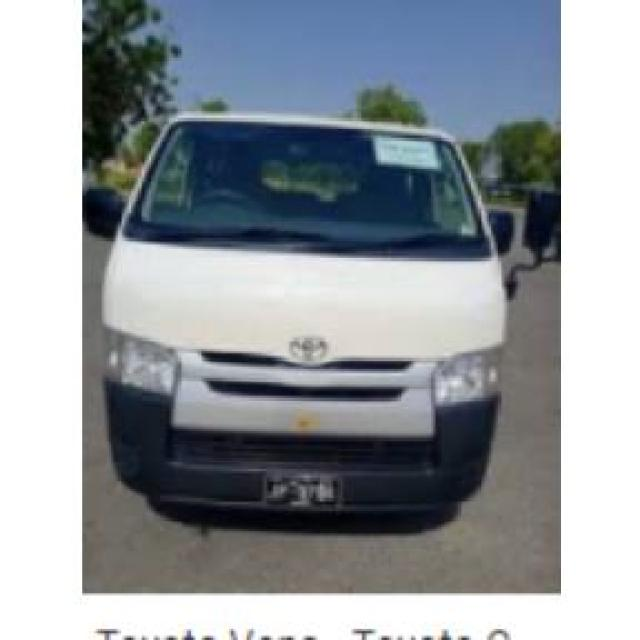Van: (102, 102, 518, 532)
